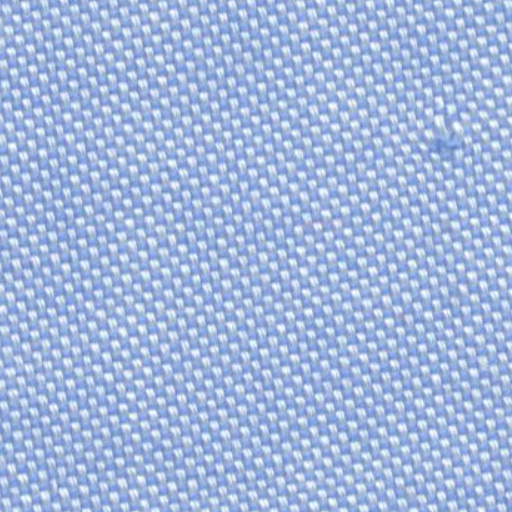PoDong: (400, 102, 480, 172)
